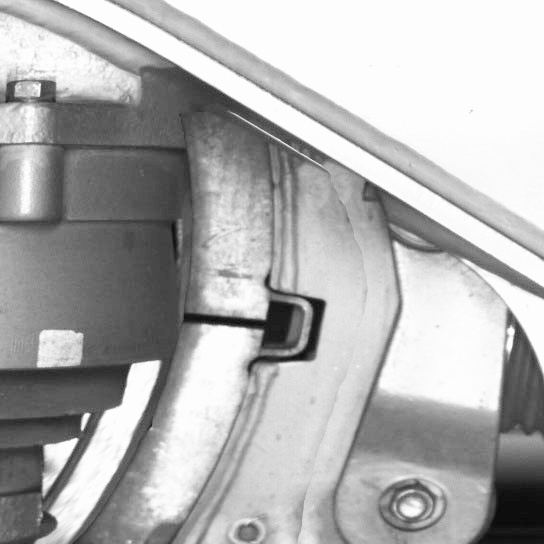ClosedKnifeSwitch: (61, 143, 268, 541)
